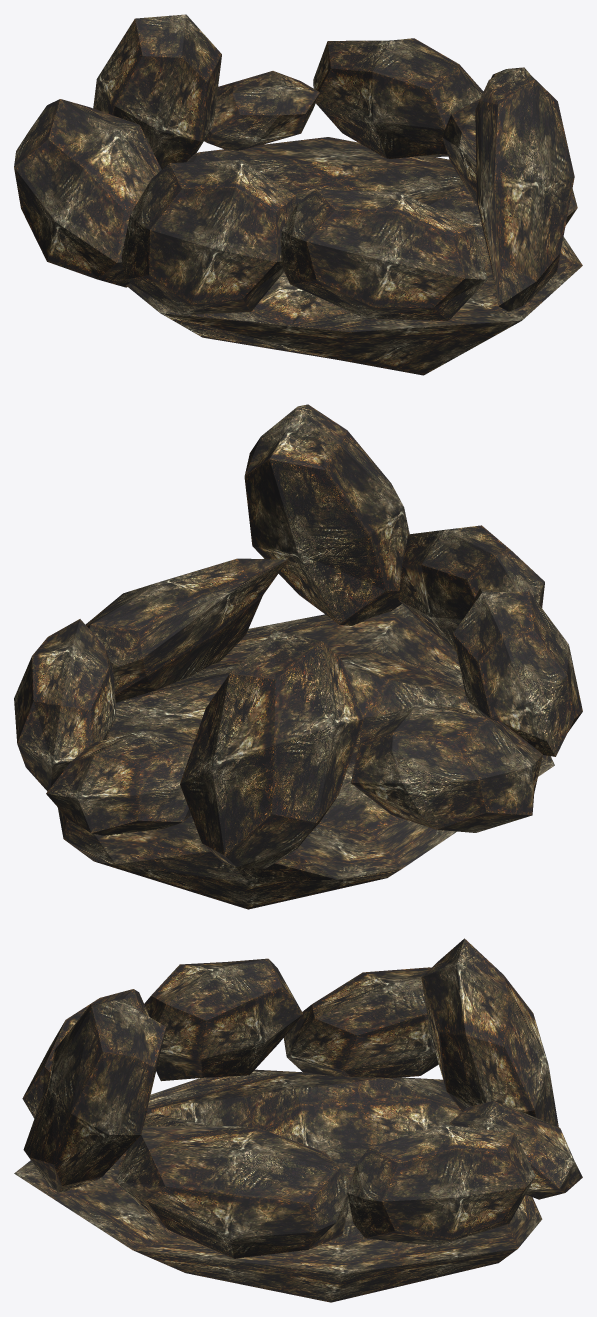
Rendered from poi_all_lair_firepit_l0.fbx.
3 renders of one model, top to bottom at view 1: azimuth 30°, elevation 25°; view 2: azimuth 150°, elevation 25°; view 3: azimuth 270°, elevation 25°, orthographic. The views are drawn at different scales.
Visible parts, largest first — view 1: mesh_node; view 2: mesh_node; view 3: mesh_node.
Boxes of the visible parts, x1,y1,x2,y2 form: mesh_node: [14, 14, 582, 375]; mesh_node: [14, 404, 582, 909]; mesh_node: [14, 938, 582, 1302].
Bounding box in the file's own units: 2.59 × 1.74 × 2.83.
